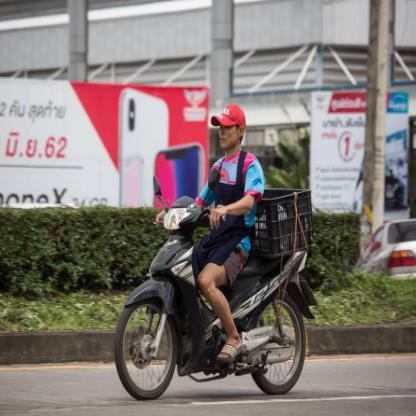Motorcycle: (112, 190, 314, 400)
